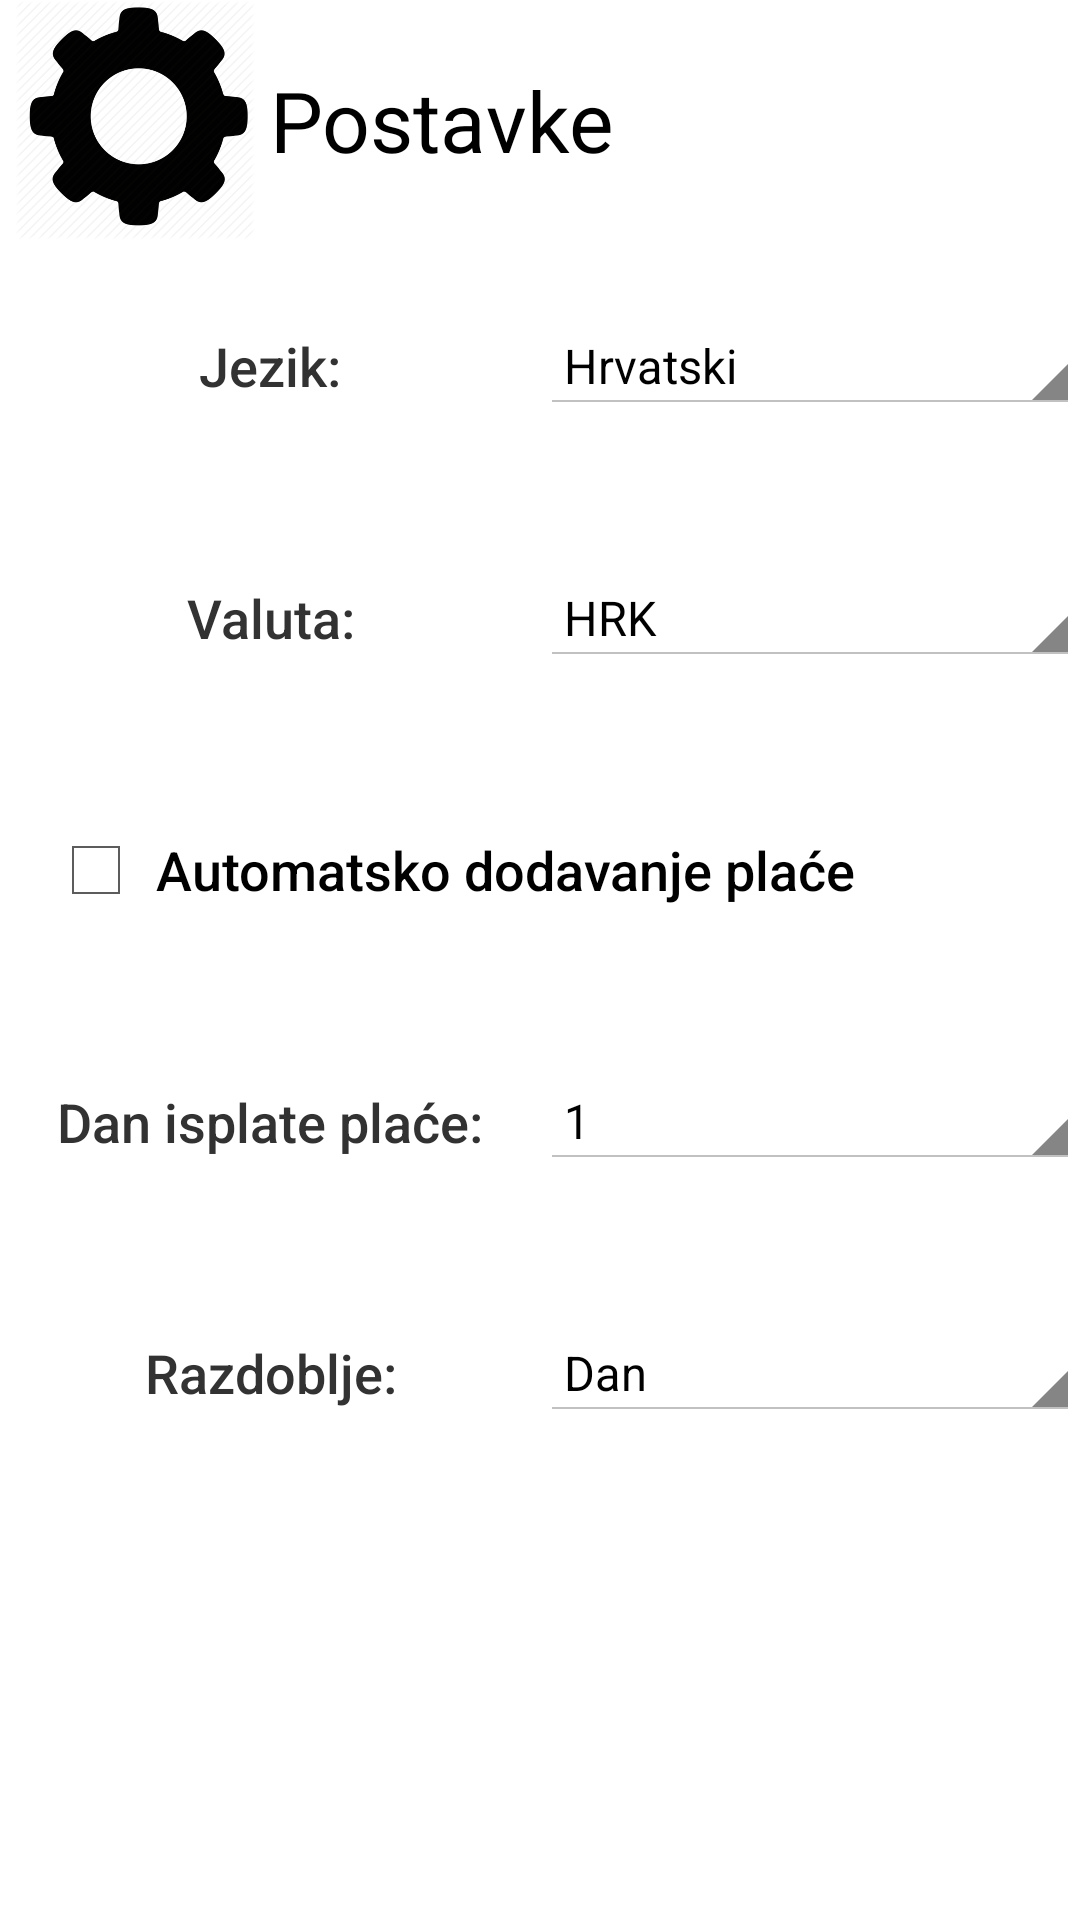

Where icons sit on this 1080*1920 app screen, as (x1, y1, x2, y2):
settings: (29, 7, 248, 226)
